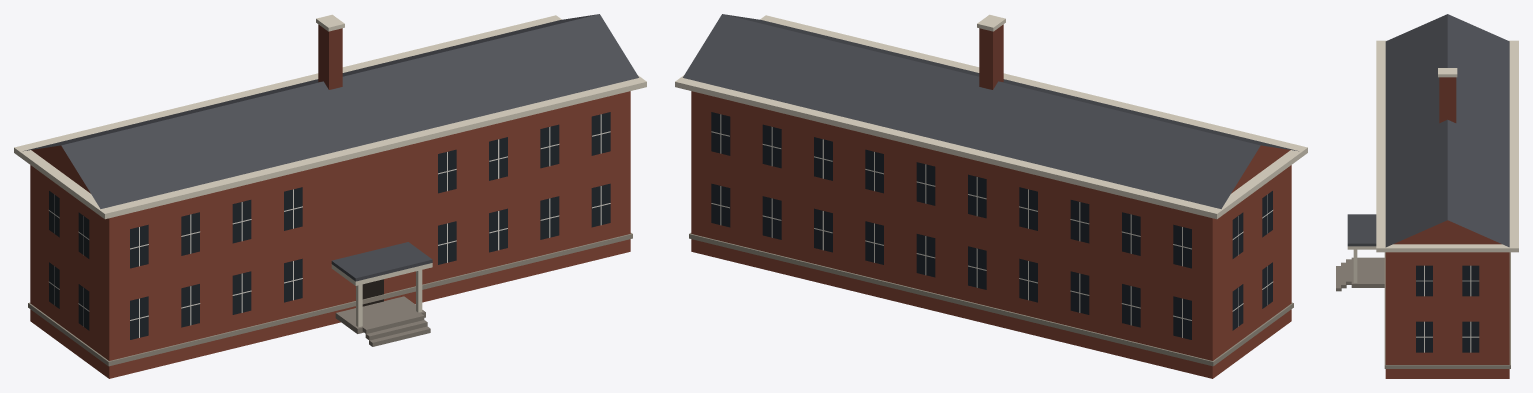
The model's file is philander-smith-mens-dormitory-1961.glb.
The picture shows the model from 3 angles, left to right: view 1: azimuth 30°, elevation 25°; view 2: azimuth 150°, elevation 25°; view 3: azimuth 270°, elevation 25°; orthographic projection. The views are drawn at different scales.
Parts seen in each view (by area): view 1: philander_brick, philander_slate, philander_glass, philander_trim, philander_stone, philander_base, philander_sash, philander_brick2; view 2: philander_brick, philander_slate, philander_glass, philander_trim, philander_stone, philander_sash, philander_brick2; view 3: philander_slate, philander_brick, philander_trim, philander_glass, philander_base, philander_stone, philander_brick2, philander_sash.
Boxes of the visible parts, x1,y1,x2,y2 form: philander_brick: (30,91,630,378); philander_slate: (23,14,638,281); philander_glass: (49,112,610,339); philander_trim: (14,14,646,327); philander_stone: (28,233,632,366); philander_base: (335,296,430,346); philander_sash: (48,114,610,337); philander_brick2: (318,24,342,89); philander_brick: (691,91,1291,378); philander_slate: (683,14,1298,208); philander_glass: (711,112,1272,339); philander_trim: (675,14,1307,219); philander_stone: (689,233,1293,366); philander_sash: (711,114,1273,337); philander_brick2: (979,24,1003,89); philander_slate: (1347,14,1509,247); philander_brick: (1385,220,1509,378); philander_trim: (1347,40,1518,282); philander_glass: (1416,265,1479,352); philander_base: (1336,257,1384,291); philander_stone: (1384,252,1510,368); philander_brick2: (1439,77,1456,123); philander_sash: (1416,265,1479,352).
Bounding box in the file's own units: 31.7 × 14.9 × 11.81.
